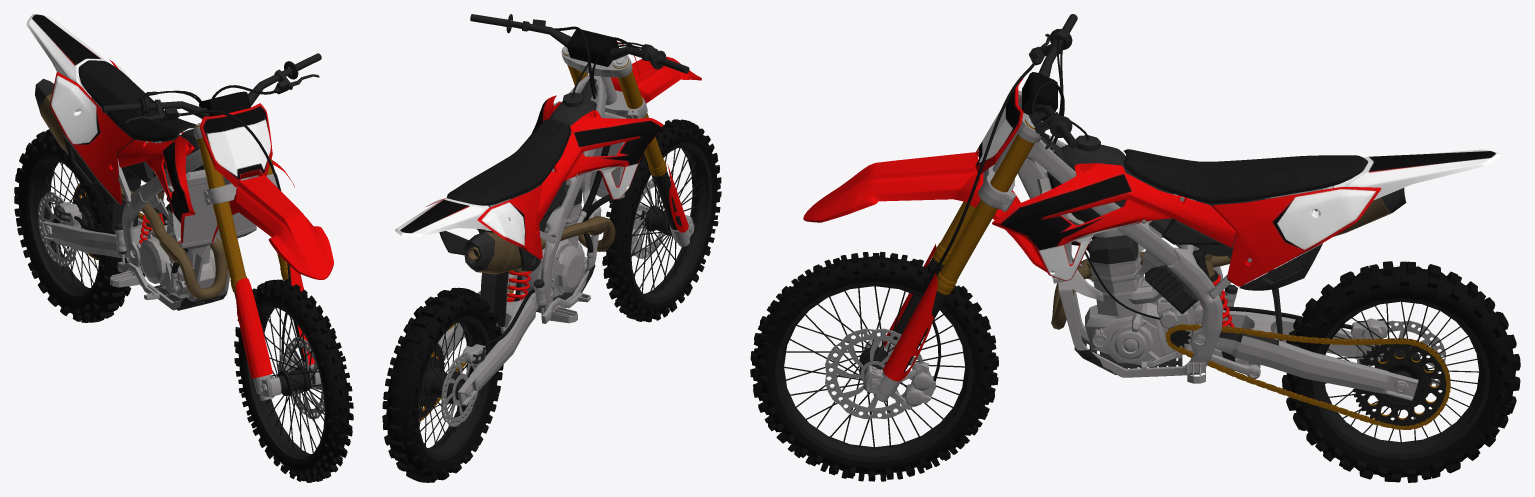
File: honda-crf-m.glb
The picture shows the model from 3 angles, left to right: view 1: azimuth 30°, elevation 25°; view 2: azimuth 150°, elevation 25°; view 3: azimuth 270°, elevation 25°; orthographic projection. The views are drawn at different scales.
Parts seen in each view (by area): view 1: skin0/FUEL_CAP_002_NUMBERPLATES_0, FRONT_TIRE_TIRE_0/FRONT_TIRE_TIRE_0, skin0/FUEL_CAP_001_FENDERS_0, REAR_TIRE_TIRE_0/REAR_TIRE_TIRE_0, REAR_RIM_001_RIMS_0/REAR_RIM_001_RIMS_0, REAR_RIM_RIMS_0/REAR_RIM_RIMS_0, FUEL_CAP_005_SEAT_0/FUEL_CAP_005_SEAT_0, FUEL_CAP_003_SHROUDS_0/FUEL_CAP_003_SHROUDS_0, FRAME_METAL_0/FRAME_METAL_0, FORK_LOWERS_001_FORKGUARD_0/FORK_LOWERS_001_FORKGUARD_0, RADIATOR_METAL_0/RADIATOR_METAL_0, BezierCurve_EXHAUST_SHINE_0/BezierCurve_EXHAUST_SHINE_0 (+22 smaller); view 2: REAR_TIRE_TIRE_0/REAR_TIRE_TIRE_0, FRONT_TIRE_TIRE_0/FRONT_TIRE_TIRE_0, FUEL_CAP_003_SHROUDS_0/FUEL_CAP_003_SHROUDS_0, REAR_RIM_001_RIMS_0/REAR_RIM_001_RIMS_0, FUEL_CAP_005_SEAT_0/FUEL_CAP_005_SEAT_0, REAR_RIM_RIMS_0/REAR_RIM_RIMS_0, skin0/FUEL_CAP_001_FENDERS_0, FRAME_METAL_0/FRAME_METAL_0, skin0/FUEL_CAP_002_NUMBERPLATES_0, SWINGARM_METAL_0/SWINGARM_METAL_0, FORK_UPPERS_FORK_0/FORK_UPPERS_FORK_0, FORK_UPPERS_001_METAL_0/FORK_UPPERS_001_METAL_0 (+23 smaller); view 3: REAR_TIRE_TIRE_0/REAR_TIRE_TIRE_0, FRONT_TIRE_TIRE_0/FRONT_TIRE_TIRE_0, skin0/FUEL_CAP_001_FENDERS_0, FUEL_CAP_003_SHROUDS_0/FUEL_CAP_003_SHROUDS_0, REAR_RIM_RIMS_0/REAR_RIM_RIMS_0, skin0/FUEL_CAP_002_NUMBERPLATES_0, FRAME_METAL_0/FRAME_METAL_0, REAR_RIM_001_RIMS_0/REAR_RIM_001_RIMS_0, FUEL_CAP_005_SEAT_0/FUEL_CAP_005_SEAT_0, MOTOR_METAL_0/MOTOR_METAL_0, FORK_UPPERS_FORK_0/FORK_UPPERS_FORK_0, Circle_005_FORK_0/Circle_005_FORK_0 (+19 smaller).
Boxes of the visible parts, x1=… form: skin0/FUEL_CAP_002_NUMBERPLATES_0: x1=50, y1=59, x2=272, y2=204; FRONT_TIRE_TIRE_0/FRONT_TIRE_TIRE_0: x1=234, y1=279, x2=353, y2=482; skin0/FUEL_CAP_001_FENDERS_0: x1=26, y1=14, x2=333, y2=279; REAR_TIRE_TIRE_0/REAR_TIRE_TIRE_0: x1=14, y1=129, x2=131, y2=322; REAR_RIM_001_RIMS_0/REAR_RIM_001_RIMS_0: x1=243, y1=302, x2=326, y2=463; REAR_RIM_RIMS_0/REAR_RIM_RIMS_0: x1=26, y1=156, x2=100, y2=299; FUEL_CAP_005_SEAT_0/FUEL_CAP_005_SEAT_0: x1=78, y1=60, x2=196, y2=141; FUEL_CAP_003_SHROUDS_0/FUEL_CAP_003_SHROUDS_0: x1=117, y1=132, x2=294, y2=242; FRAME_METAL_0/FRAME_METAL_0: x1=122, y1=149, x2=230, y2=310; FORK_LOWERS_001_FORKGUARD_0/FORK_LOWERS_001_FORKGUARD_0: x1=235, y1=267, x2=314, y2=378; RADIATOR_METAL_0/RADIATOR_METAL_0: x1=178, y1=169, x2=258, y2=248; BezierCurve_EXHAUST_SHINE_0/BezierCurve_EXHAUST_SHINE_0: x1=120, y1=185, x2=227, y2=299; REAR_TIRE_TIRE_0/REAR_TIRE_TIRE_0: x1=382, y1=287, x2=503, y2=482; FRONT_TIRE_TIRE_0/FRONT_TIRE_TIRE_0: x1=602, y1=119, x2=721, y2=322; FUEL_CAP_003_SHROUDS_0/FUEL_CAP_003_SHROUDS_0: x1=531, y1=95, x2=663, y2=223; REAR_RIM_001_RIMS_0/REAR_RIM_001_RIMS_0: x1=629, y1=142, x2=712, y2=303; FUEL_CAP_005_SEAT_0/FUEL_CAP_005_SEAT_0: x1=446, y1=119, x2=570, y2=205; REAR_RIM_RIMS_0/REAR_RIM_RIMS_0: x1=417, y1=316, x2=490, y2=459; skin0/FUEL_CAP_001_FENDERS_0: x1=395, y1=56, x2=701, y2=236; FRAME_METAL_0/FRAME_METAL_0: x1=507, y1=74, x2=607, y2=312; skin0/FUEL_CAP_002_NUMBERPLATES_0: x1=426, y1=33, x2=640, y2=259; SWINGARM_METAL_0/SWINGARM_METAL_0: x1=430, y1=273, x2=538, y2=405; FORK_UPPERS_FORK_0/FORK_UPPERS_FORK_0: x1=562, y1=51, x2=666, y2=176; FORK_UPPERS_001_METAL_0/FORK_UPPERS_001_METAL_0: x1=561, y1=46, x2=647, y2=118; REAR_TIRE_TIRE_0/REAR_TIRE_TIRE_0: x1=1282, y1=261, x2=1520, y2=482; FRONT_TIRE_TIRE_0/FRONT_TIRE_TIRE_0: x1=750, y1=251, x2=998, y2=481; skin0/FUEL_CAP_001_FENDERS_0: x1=803, y1=149, x2=1501, y2=272; FUEL_CAP_003_SHROUDS_0/FUEL_CAP_003_SHROUDS_0: x1=992, y1=153, x2=1235, y2=280; REAR_RIM_RIMS_0/REAR_RIM_RIMS_0: x1=1312, y1=297, x2=1490, y2=459; skin0/FUEL_CAP_002_NUMBERPLATES_0: x1=975, y1=79, x2=1381, y2=286; FRAME_METAL_0/FRAME_METAL_0: x1=1017, y1=134, x2=1222, y2=377; REAR_RIM_001_RIMS_0/REAR_RIM_001_RIMS_0: x1=775, y1=281, x2=974, y2=462; FUEL_CAP_005_SEAT_0/FUEL_CAP_005_SEAT_0: x1=1123, y1=149, x2=1367, y2=203; MOTOR_METAL_0/MOTOR_METAL_0: x1=1085, y1=245, x2=1195, y2=356; FORK_UPPERS_FORK_0/FORK_UPPERS_FORK_0: x1=933, y1=119, x2=1034, y2=294; Circle_005_FORK_0/Circle_005_FORK_0: x1=1165, y1=324, x2=1450, y2=429.
Size of the model in its own units: 0.9705 by 1.46 by 2.47.
Materials: 19 (4 with a texture image).
